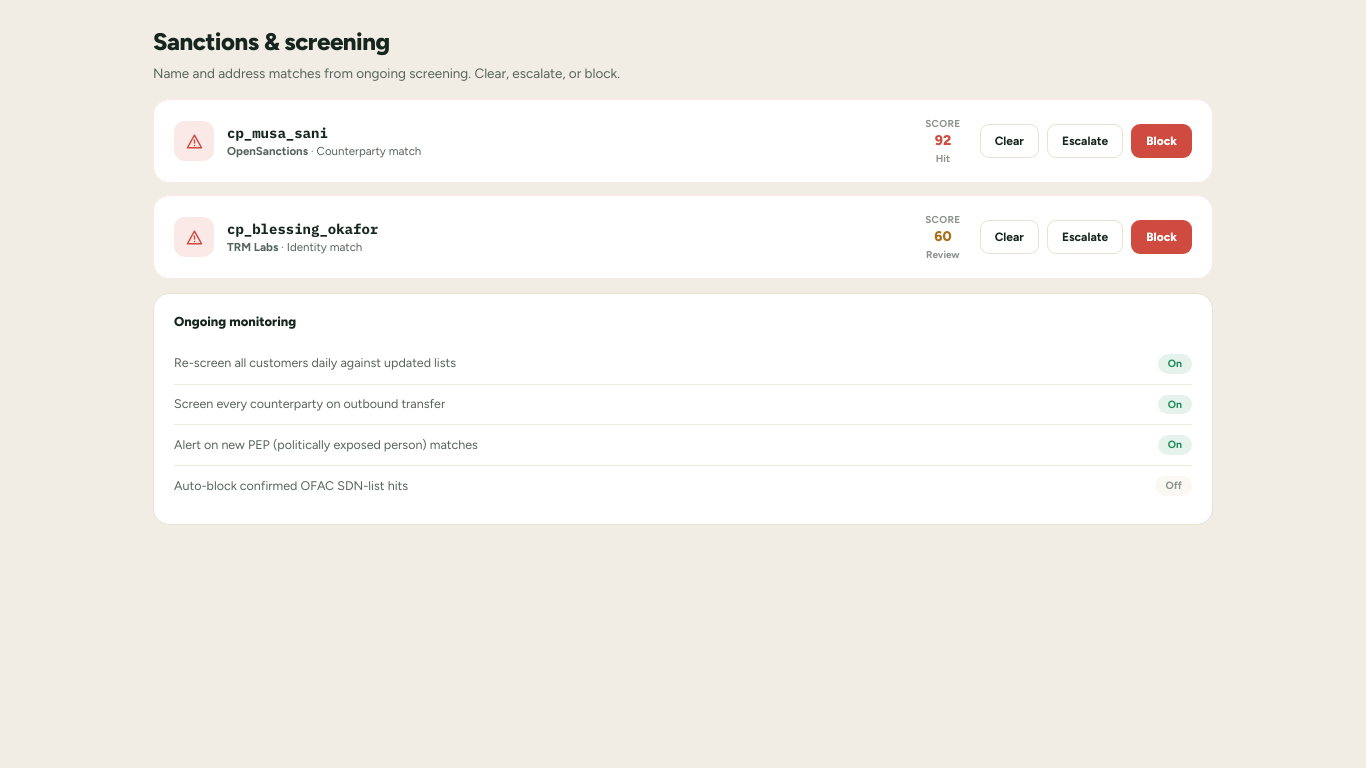
SanctionsPage (Phase 7 — disposition WRITE) › opens the step-up dialog and retries the POST after re-auth when the server demands step-up
Expected: the text "cp_musa_sani" is shown, left=227, top=124, right=328, bottom=142
Click the button "Clear" in the row of "92" at [1009, 141], box left=980, top=124, right=1039, bottom=158
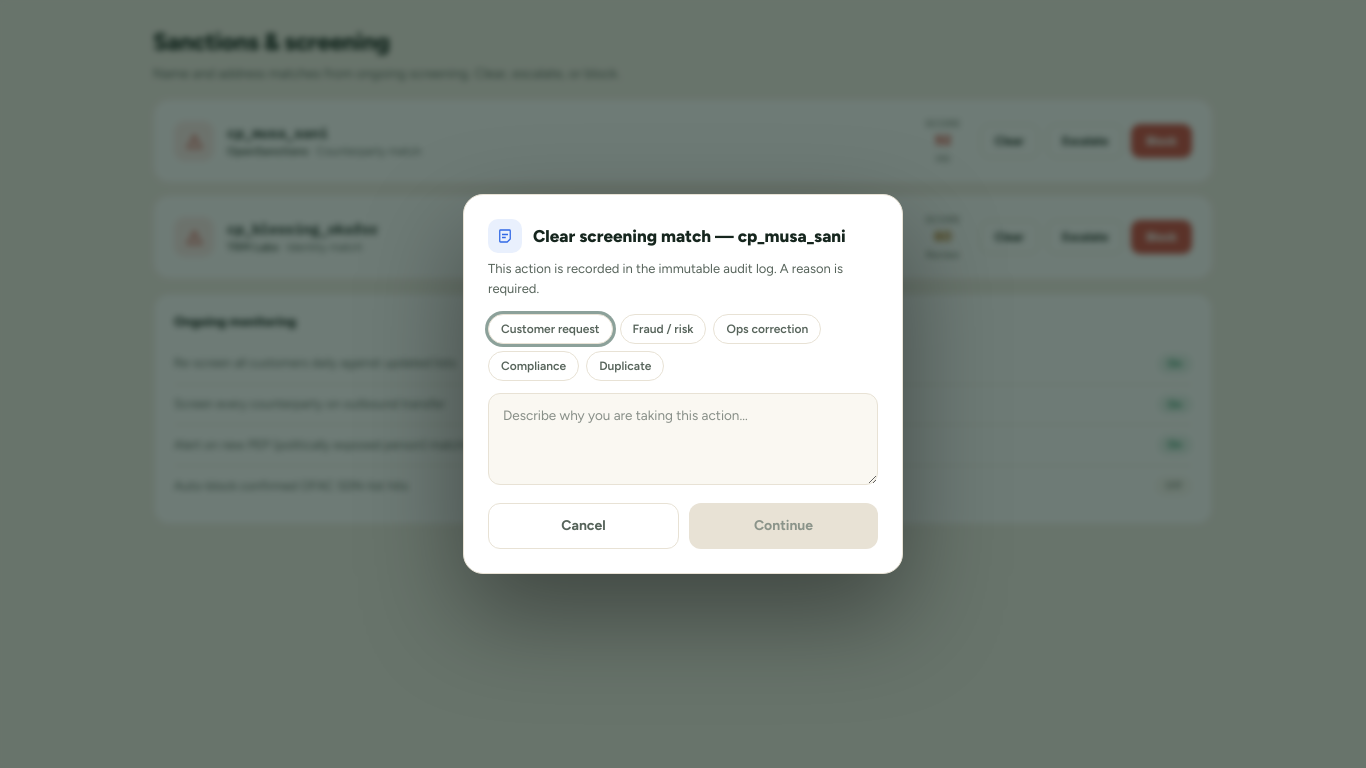
Type "No true match" into the text box named "Reason" at [683, 439], box left=488, top=393, right=878, bottom=485
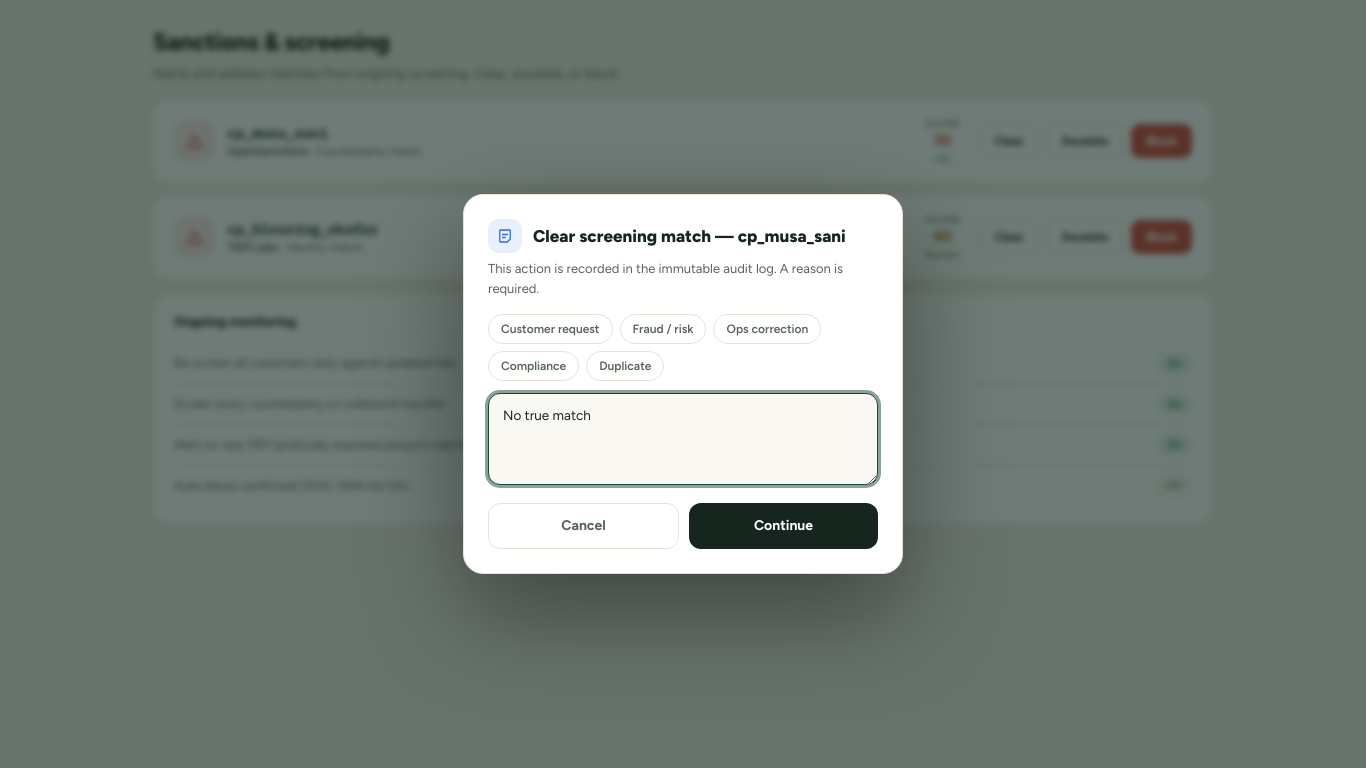
Click the button "Continue" at [784, 526], box left=689, top=503, right=878, bottom=549
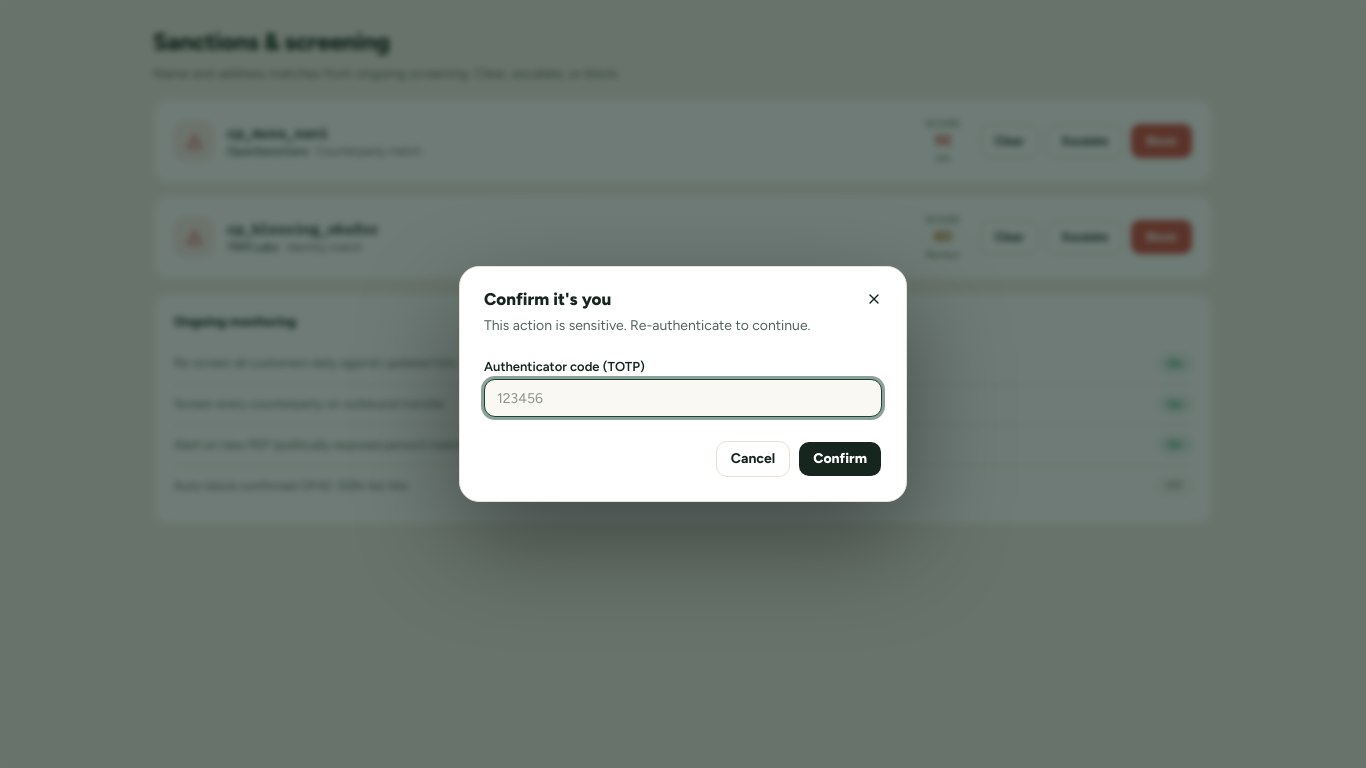
Now the heading "Confirm it's you" is shown, box left=484, top=289, right=611, bottom=309
